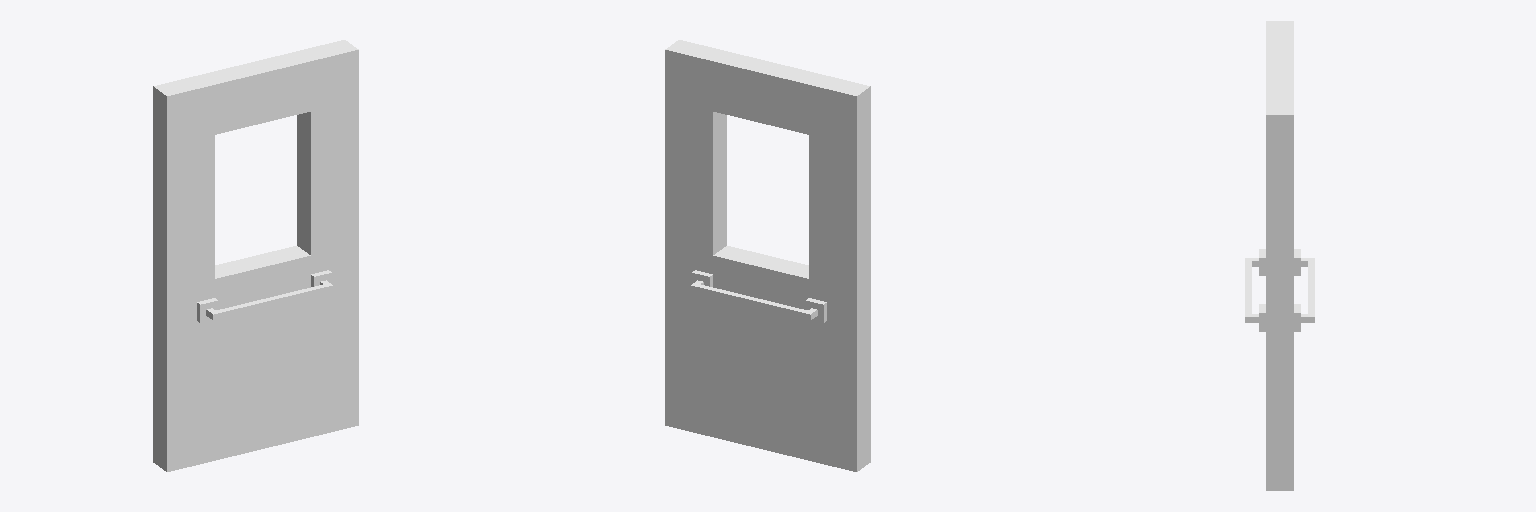
Rendered from DoubleOneDoor.obj.
3 renders of one model, left to right at view 1: azimuth 30°, elevation 25°; view 2: azimuth 150°, elevation 25°; view 3: azimuth 270°, elevation 25°, orthographic.
Parts seen in each view (by area): view 1: DoubleOneDoor; view 2: DoubleOneDoor; view 3: DoubleOneDoor.
Part boxes in pixels (x1,y1,x2,y2): DoubleOneDoor: (153,40,358,471); DoubleOneDoor: (665,40,870,471); DoubleOneDoor: (1245,21,1314,490).
Bounding box in the file's own units: 32 × 60 × 10.